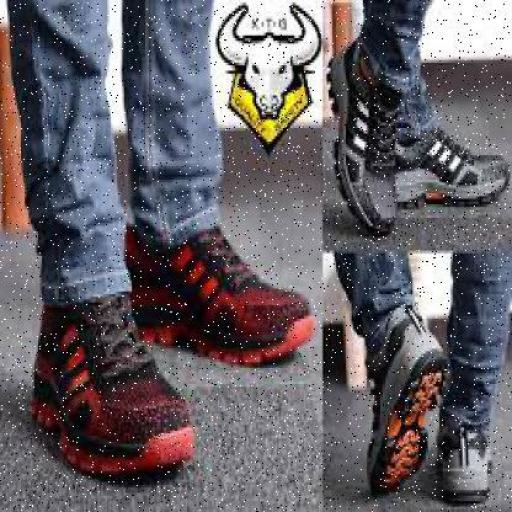safety_shoe: (32, 277, 186, 477), (128, 209, 314, 353), (332, 49, 400, 222), (368, 310, 434, 486), (394, 138, 508, 204), (437, 420, 498, 498)
